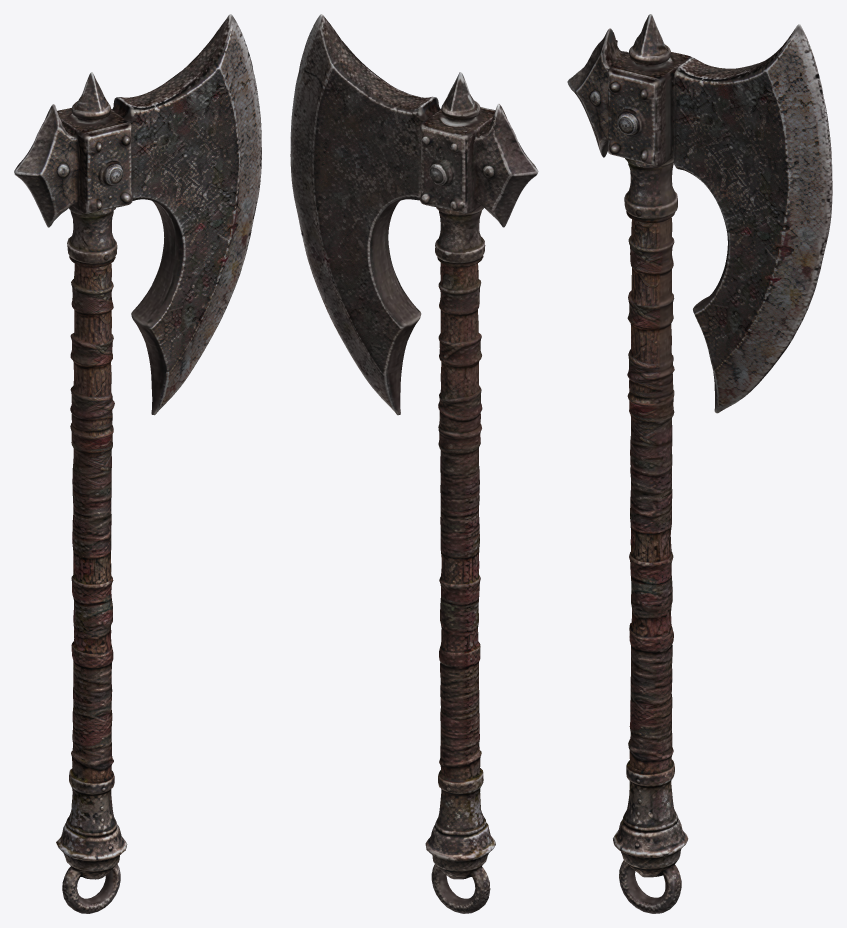
File: tank_weapon.obj
3 views of the same model, side by side, from view 1: azimuth 30°, elevation 25°; view 2: azimuth 150°, elevation 25°; view 3: azimuth 330°, elevation 25° (orthographic). The views are drawn at different scales.
Visible parts, largest first — view 1: tank_weapon; view 2: tank_weapon; view 3: tank_weapon.
Boxes of the visible parts, x1=… form: tank_weapon: x1=14, y1=14, x2=261, y2=913; tank_weapon: x1=290, y1=14, x2=538, y2=913; tank_weapon: x1=567, y1=14, x2=832, y2=913.
Size of the model in its own units: 0.2937 by 0.9816 by 0.0977.
1 material, 1 textured.
